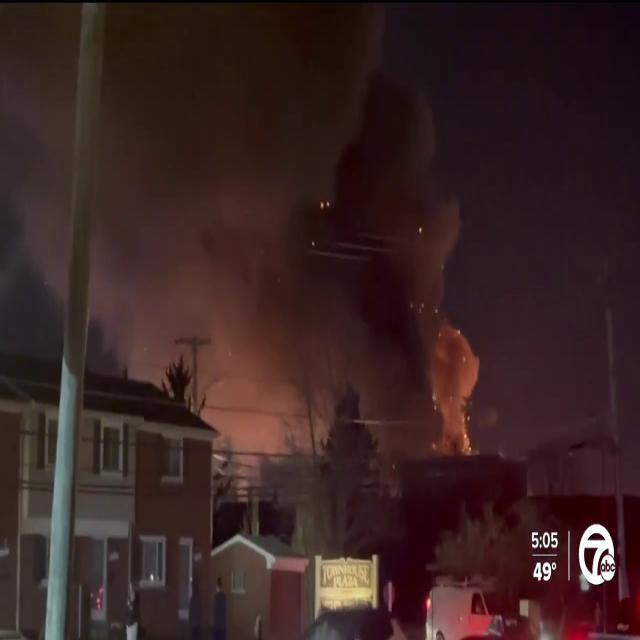Smoke: (0, 1, 476, 358)
